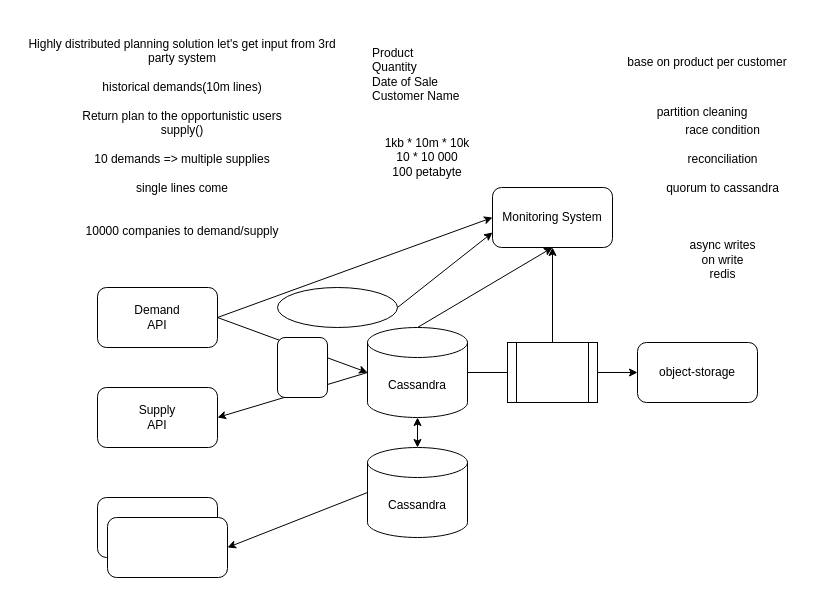
Image size: 814x595. Some labels were removed from this diagram. The shapes that lost their labels are listed below. From the top down, each one's centre as x and y in pixels, then its label:
At (x=337, y=307): "managed redis".
At (x=302, y=367): "Redis Cache".
At (x=552, y=372): "background process(30 days retention)".
